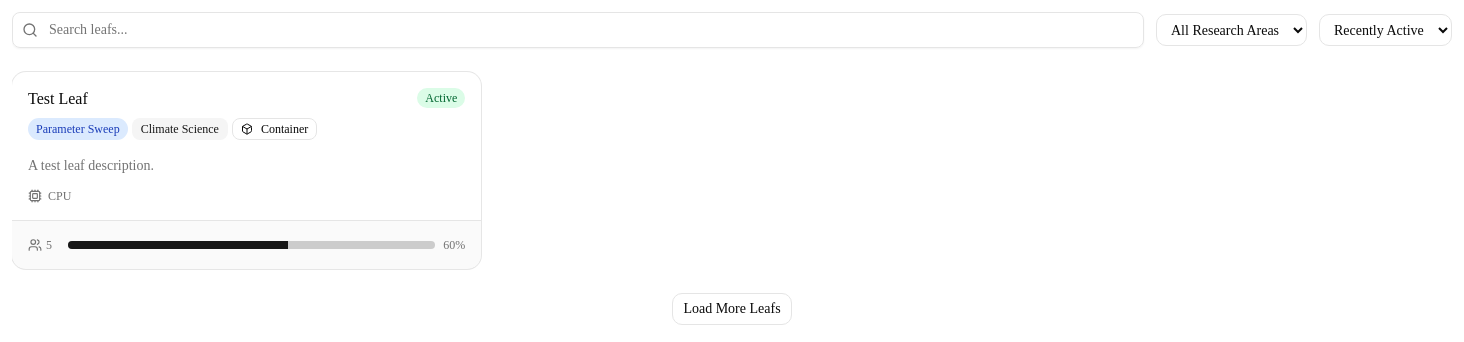
Test: ProjectBrowser › hides Load More button after loading final page
Click the button with test id "load-more-button" at x=732, y=309, box 672,293 -> 792,325
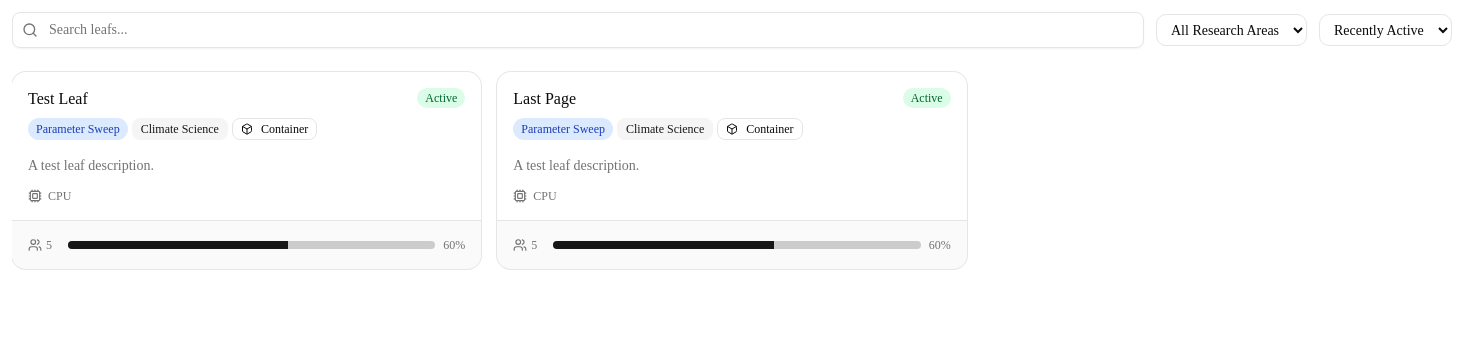
Now the button with test id "load-more-button" is gone
